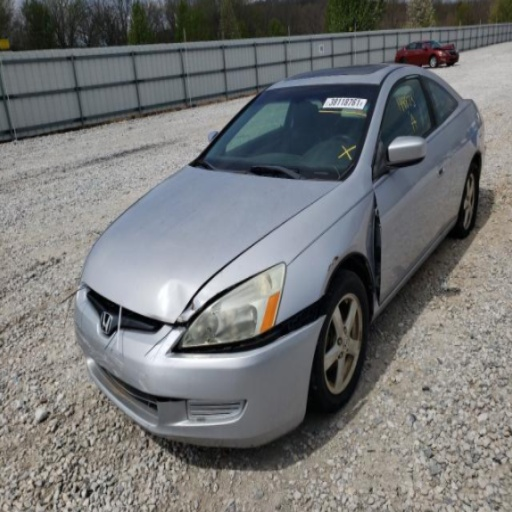dent: (361, 193, 394, 322), (157, 279, 199, 323), (178, 300, 202, 322)
rust: (103, 376, 132, 401)
scratch: (75, 327, 125, 376), (145, 328, 178, 360), (136, 369, 149, 393)
